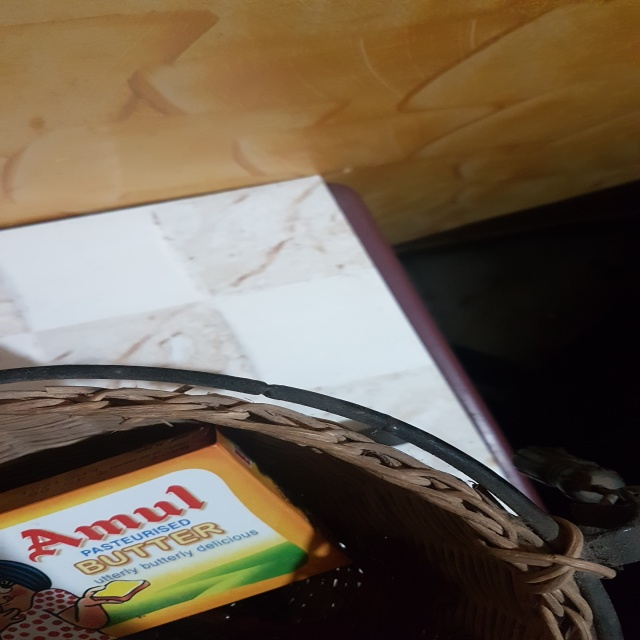butter: (5, 427, 363, 638)
